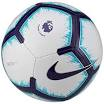football: (1, 1, 103, 102)
